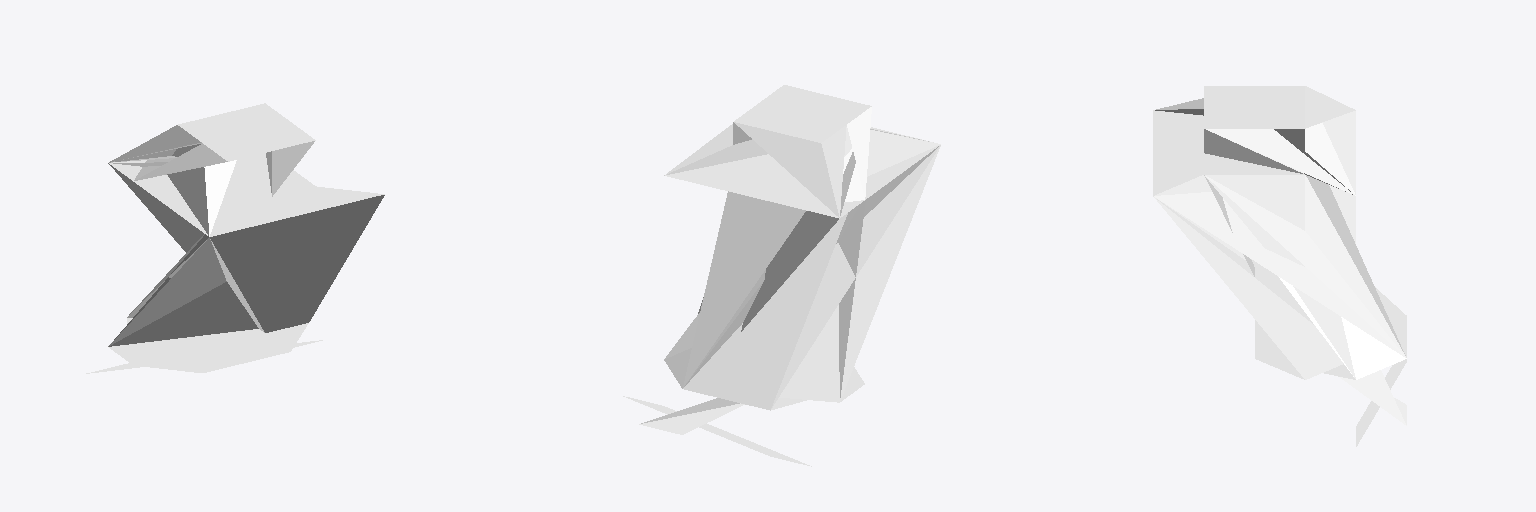
File: Skeleton_Run0.obj
The picture shows the model from 3 angles: view 1: azimuth 30°, elevation 25°; view 2: azimuth 150°, elevation 25°; view 3: azimuth 270°, elevation 25°; orthographic projection.
Bounding box in the file's own units: 5 × 6 × 5.